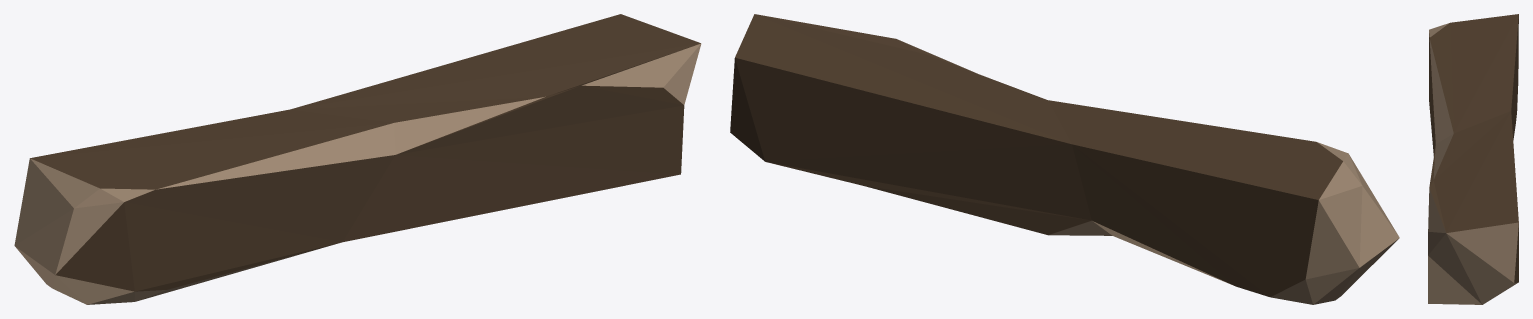
The model's file is Branch_02.FBX.
3 views of the same model, side by side, from view 1: azimuth 30°, elevation 25°; view 2: azimuth 150°, elevation 25°; view 3: azimuth 270°, elevation 25° (orthographic). The views are drawn at different scales.
Parts seen in each view (by area): view 1: Branch_02; view 2: Branch_02; view 3: Branch_02.
Part boxes in pixels (x1=…): Branch_02: x1=14, y1=14, x2=701, y2=304; Branch_02: x1=730, y1=14, x2=1399, y2=304; Branch_02: x1=1428, y1=14, x2=1518, y2=304.
Size of the model in its own units: 1.14 by 0.1904 by 0.1904.
